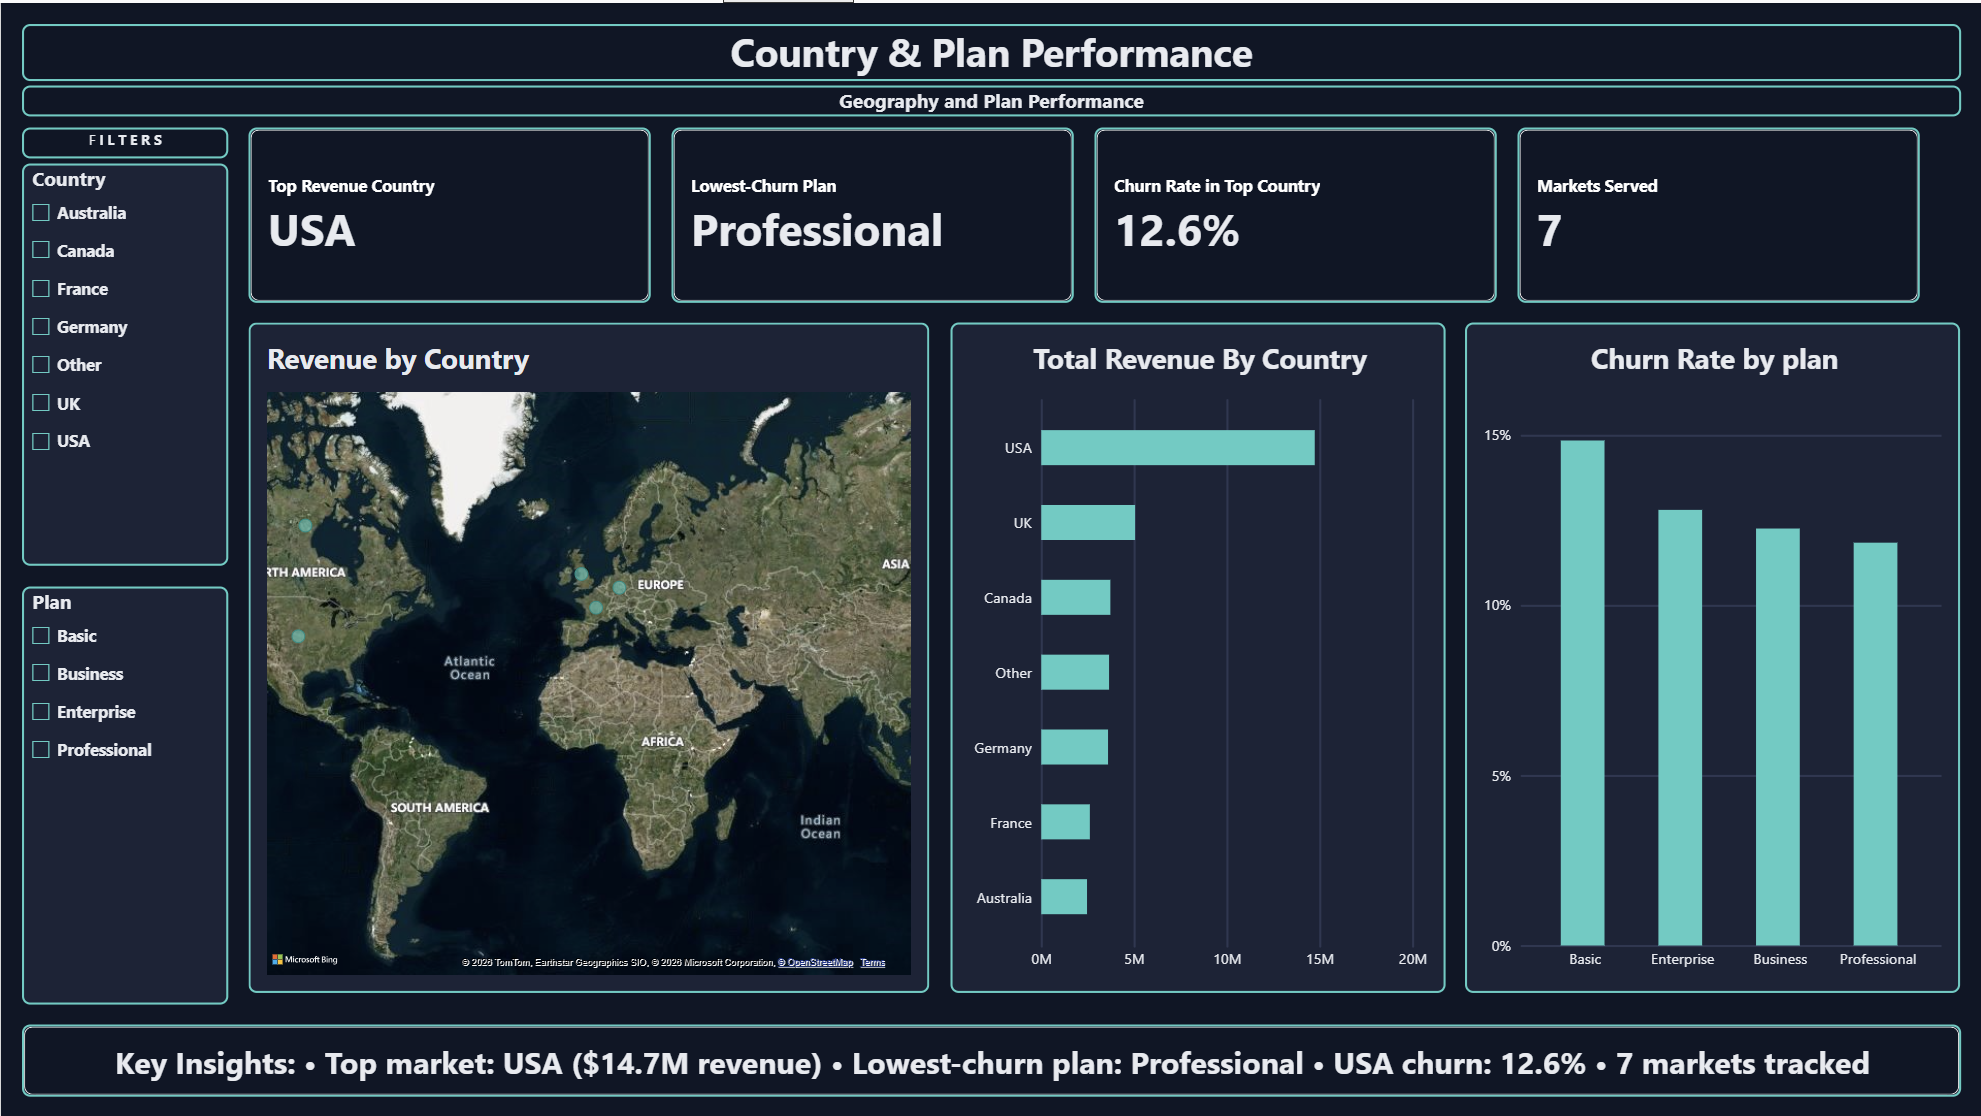

The dashboard page shown, as its layout file describes it:
{"tool":"powerbi","page":{"name":"Revenue By Country & Churn","canvas":[1920,1080],"ordinal":4},"visuals":[{"type":"textbox","box":[20,20,1880,55],"z":0},{"type":"clusteredBarChart","title":"Total Revenue By Country","fields":{"Category":["customers_for_powerbi.country"],"Y":["Sum(financial_transactions.amount)"]},"box":[920,310,480,650],"z":1000},{"type":"clusteredColumnChart","fields":{"Category":["customers_for_powerbi.plan"],"Y":["customers_for_powerbi.Churn Rate"]},"box":[1420,310,480,650],"z":2000},{"type":"cardVisual","fields":{"Data":["customers_for_powerbi.TopCountryText"]},"box":[240,120,390,170],"z":3000},{"type":"cardVisual","fields":{"Data":["customers_for_powerbi.LowestChurnPlanText"]},"box":[650,120,390,170],"z":4000},{"type":"cardVisual","fields":{"Data":["customers_for_powerbi.TopCountryChurnRate"]},"box":[1060,120,390,170],"z":5000},{"type":"textbox","box":[20,80,1880,30],"z":6000},{"type":"textbox","box":[20,120,200,30],"z":7000},{"type":"slicer","fields":{"Values":["customers_for_powerbi.country"]},"box":[20,155,200,390],"z":8000},{"type":"slicer","fields":{"Values":["customers_for_powerbi.plan"]},"box":[20,565,200,405],"z":9000},{"type":"cardVisual","fields":{"Data":["customers_for_powerbi.CountryCount"]},"box":[1470,120,390,170],"z":10000},{"type":"map","title":"Revenue by Country","fields":{"Category":["customers_for_powerbi.country"]},"box":[240,310,660,650],"z":11000},{"type":"cardVisual","fields":{"Data":["customers_for_powerbi.KeyInsightsCountryText"]},"box":[20,990,1880,70],"z":12000}]}

Visuals, with their boxes in screenshot pixels (x1, y1, x2, y2), scaled from the page's 1920x1080 canvas onto the 1981x1116 screenshot:
textbox: 21/21/1960/78
"Total Revenue By Country" clusteredBarChart: 949/320/1444/992
clusteredColumnChart - customers_for_powerbi.plan x customers_for_powerbi.Churn Rate: 1465/320/1960/992
cardVisual - customers_for_powerbi.TopCountryText: 248/124/650/300
cardVisual - customers_for_powerbi.LowestChurnPlanText: 671/124/1073/300
cardVisual - customers_for_powerbi.TopCountryChurnRate: 1094/124/1496/300
textbox: 21/83/1960/114
textbox: 21/124/227/155
slicer - customers_for_powerbi.country: 21/160/227/563
slicer - customers_for_powerbi.plan: 21/584/227/1002
cardVisual - customers_for_powerbi.CountryCount: 1517/124/1919/300
"Revenue by Country" map: 248/320/929/992
cardVisual - customers_for_powerbi.KeyInsightsCountryText: 21/1023/1960/1095
